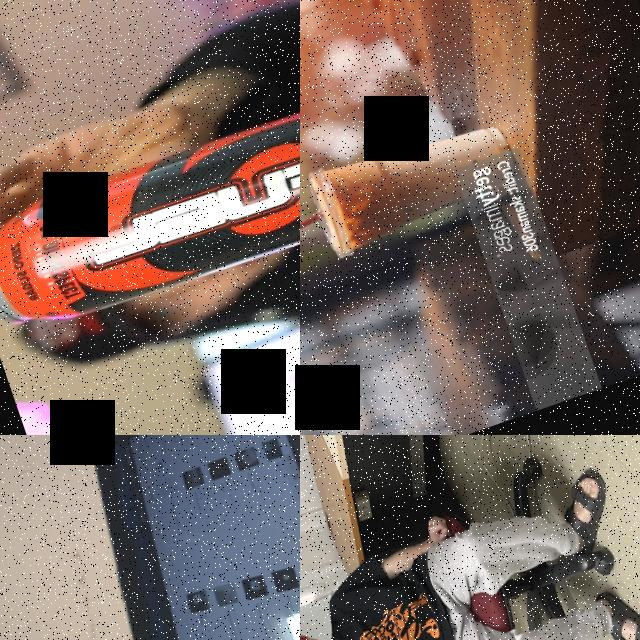can: (0, 33, 300, 350)
cup: (302, 104, 524, 258)
